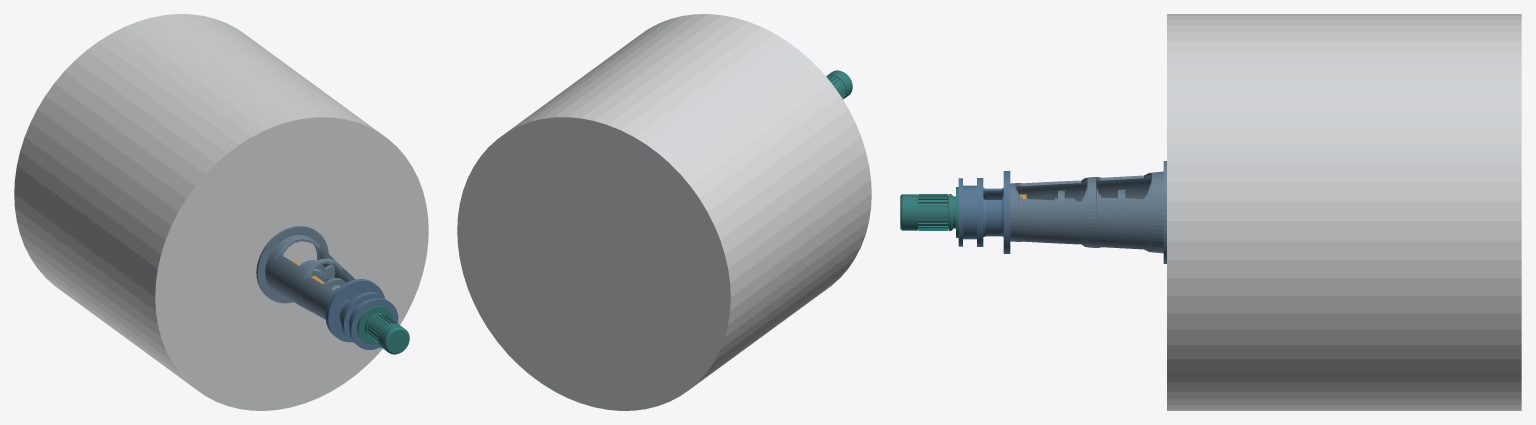
3 renders of one model, left to right at view 1: azimuth 30°, elevation 25°; view 2: azimuth 150°, elevation 25°; view 3: azimuth 270°, elevation 25°, orthographic. The views are drawn at different scales.
Visible parts, largest first — view 1: Equipment, 06_Tapered_window_frame_with_bored_seats, 01_Motor, 06_Frame_foot, 02_Base_flange_top, 02_Upper_mount_flange, 02_Middle_flange_top; view 2: Equipment, 01_Motor; view 3: Equipment, 06_Tapered_window_frame_with_bored_seats, 01_Motor, 02_Lower_housing_1, 02_Upper_housing.
Part boxes in pixels (x1,y1,x2,y2): Equipment: (14, 14, 428, 410); 06_Tapered_window_frame_with_bored_seats: (265, 235, 355, 319); 01_Motor: (357, 306, 409, 354); 06_Frame_foot: (256, 226, 328, 303); 02_Base_flange_top: (327, 280, 384, 342); 02_Upper_mount_flange: (349, 298, 398, 349); 02_Middle_flange_top: (342, 293, 385, 342); Equipment: (457, 14, 871, 410); 01_Motor: (828, 70, 852, 99); Equipment: (1167, 14, 1521, 410); 06_Tapered_window_frame_with_bored_seats: (1010, 171, 1163, 253); 01_Motor: (900, 187, 958, 237); 02_Lower_housing_1: (983, 199, 1003, 236); 02_Upper_housing: (963, 185, 976, 239).
Size of the model in its own units: 2.8 by 2.8 by 4.38.
